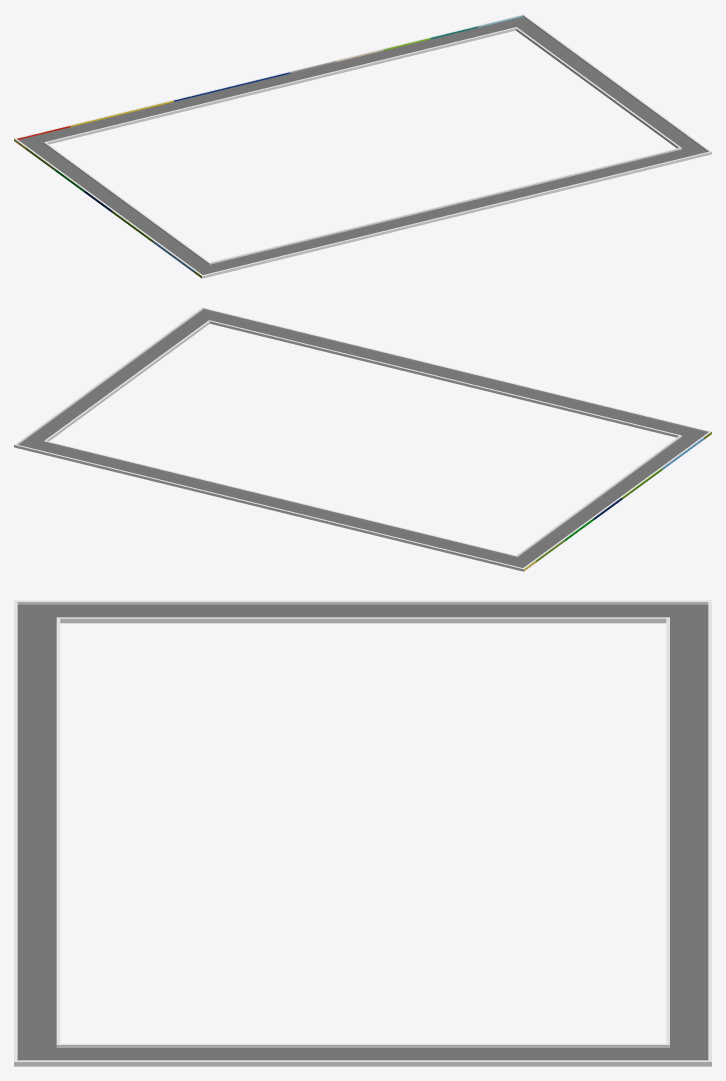
Rendered from SM_Track1.fbx.
3 renders of one model, top to bottom at view 1: azimuth 30°, elevation 25°; view 2: azimuth 150°, elevation 25°; view 3: azimuth 270°, elevation 25°, orthographic. The views are drawn at different scales.
Parts seen in each view (by area): view 1: SM_Track1; view 2: SM_Track1; view 3: SM_Track1.
Part boxes in pixels (left/top/right/bottom): SM_Track1: left=14, top=14, right=711, bottom=278; SM_Track1: left=14, top=307, right=711, bottom=571; SM_Track1: left=14, top=600, right=711, bottom=1066.
Size of the model in its own units: 5550 by 25.96 by 3548.
